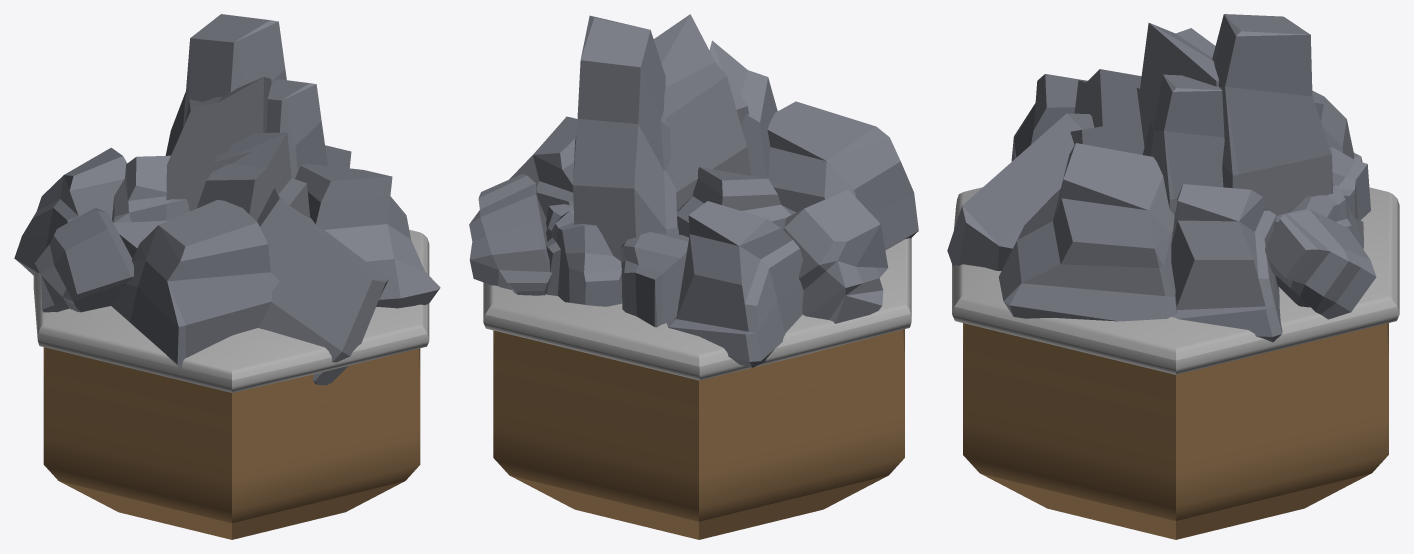
File: Mountains1.fbx
3 views of the same model, side by side, from view 1: azimuth 30°, elevation 25°; view 2: azimuth 150°, elevation 25°; view 3: azimuth 270°, elevation 25° (orthographic). The views are drawn at different scales.
Parts seen in each view (by area): view 1: pasted__pasted__polySurface18; view 2: pasted__pasted__polySurface18; view 3: pasted__pasted__polySurface18.
Boxes of the visible parts, x1=… form: pasted__pasted__polySurface18: x1=14, y1=14, x2=440, y2=539; pasted__pasted__polySurface18: x1=469, y1=14, x2=918, y2=539; pasted__pasted__polySurface18: x1=947, y1=14, x2=1399, y2=539.
Size of the model in its own units: 1.92 by 2.15 by 1.7.
